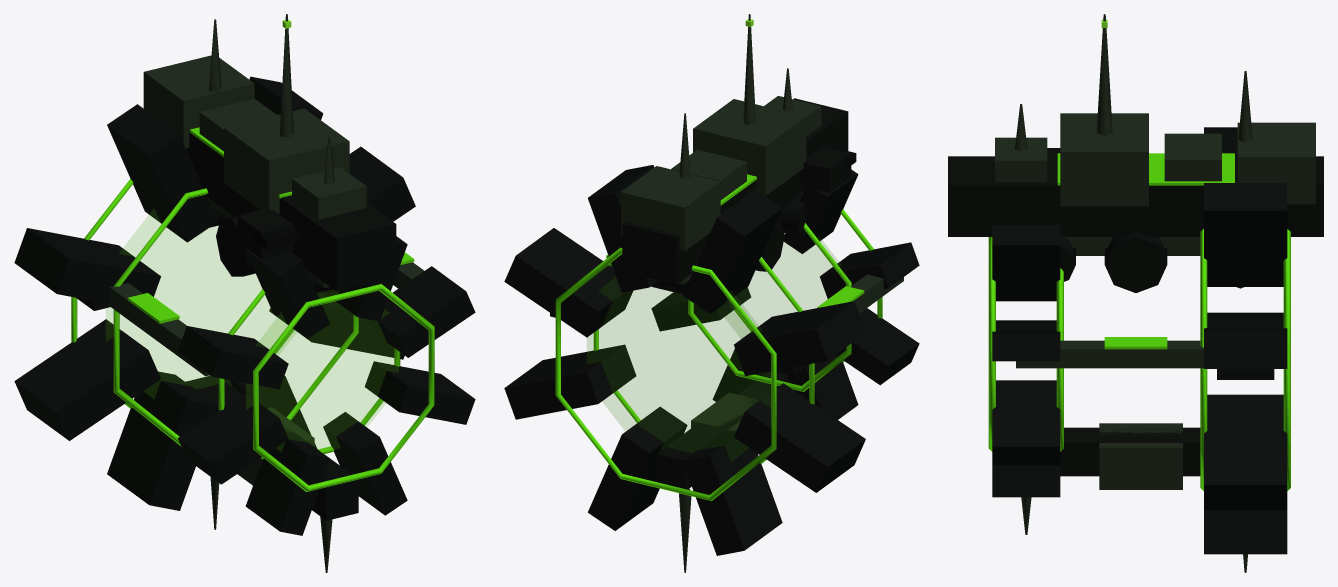
Rendered from Stargate.obj.
The picture shows the model from 3 angles, left to right: view 1: azimuth 30°, elevation 25°; view 2: azimuth 150°, elevation 25°; view 3: azimuth 270°, elevation 25°; orthographic projection. The views are drawn at different scales.
Visible parts, largest first — view 1: stargate_ring_aft_aperture, stargate_ring_fore_aperture, stargate_spine, stargate_ring_fore_seg_5, stargate_ring_fore_seg_4, stargate_machinery_2, stargate_ring_fore_seg_7, stargate_ring_fore_seg_6, stargate_machinery_0, stargate_ring_aft_seg_5, stargate_ring_aft_seg_4, stargate_ring_aft_seg_1 (+22 smaller); view 2: stargate_ring_fore_aperture, stargate_ring_fore_seg_5, stargate_ring_fore_seg_4, stargate_ring_fore_seg_1, stargate_machinery_2, stargate_spine, stargate_ring_fore_seg_7, stargate_ring_fore_seg_6, stargate_ring_fore_seg_2, stargate_machinery_0, stargate_ring_fore_seg_3, stargate_ring_fore_rim (+19 smaller); view 3: stargate_spine, stargate_ring_fore_seg_2, stargate_ring_fore_seg_0, stargate_machinery_2, stargate_ring_aft_seg_2, stargate_machinery_0, stargate_ring_aft_seg_0, stargate_keel_pod, stargate_conduit, stargate_keel, stargate_ring_fore_seg_3, stargate_ring_fore_seg_1 (+18 smaller).
Boxes of the visible parts, x1,y1,x2,y2 form: stargate_ring_aft_aperture: (246,290,398,451); stargate_ring_fore_aperture: (106,209,295,398); stargate_spine: (186,131,396,291); stargate_ring_fore_seg_5: (14,319,160,440); stargate_ring_fore_seg_4: (107,371,217,510); stargate_machinery_2: (224,108,349,213); stargate_ring_fore_seg_7: (107,104,217,242); stargate_ring_fore_seg_6: (14,228,160,303); stargate_machinery_0: (143,55,254,148); stargate_ring_aft_seg_5: (178,393,288,484); stargate_ring_aft_seg_4: (245,431,329,535); stargate_ring_aft_seg_1: (368,266,475,357); stargate_ring_fore_aperture: (587,277,770,461); stargate_ring_fore_seg_5: (734,383,865,492); stargate_ring_fore_seg_4: (683,430,782,555); stargate_ring_fore_seg_1: (504,228,632,337); stargate_machinery_2: (693,99,806,195); stargate_spine: (622,98,848,284); stargate_ring_fore_seg_7: (683,190,782,313); stargate_ring_fore_seg_6: (734,301,865,376); stargate_ring_fore_seg_2: (504,344,636,419); stargate_machinery_0: (621,166,720,250); stargate_ring_fore_seg_3: (588,406,687,530); stargate_ring_fore_rim: (555,247,814,500); stargate_spine: (948,156,1323,236); stargate_ring_fore_seg_2: (1204,402,1287,510); stargate_ring_fore_seg_0: (1204,183,1287,286); stargate_machinery_2: (1060,113,1148,206); stargate_ring_aft_seg_2: (992,385,1060,465); stargate_machinery_0: (1237,122,1315,204); stargate_ring_aft_seg_0: (992,225,1060,301); stargate_keel_pod: (1099,423,1182,489); stargate_conduit: (1016,248,1203,368); stargate_keel: (1060,427,1200,476); stargate_ring_fore_seg_3: (1204,510,1287,554); stargate_ring_fore_seg_1: (1204,326,1287,368).
Bounding box in the file's own units: 263 × 397 × 243.
